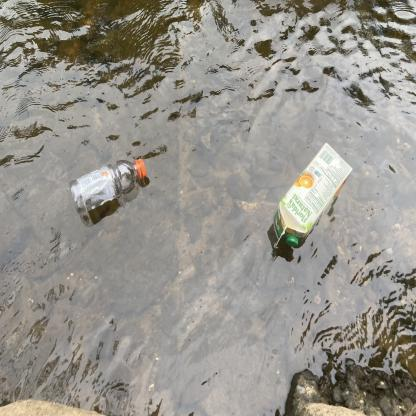trash: (263, 139, 357, 261), (68, 155, 150, 223)
